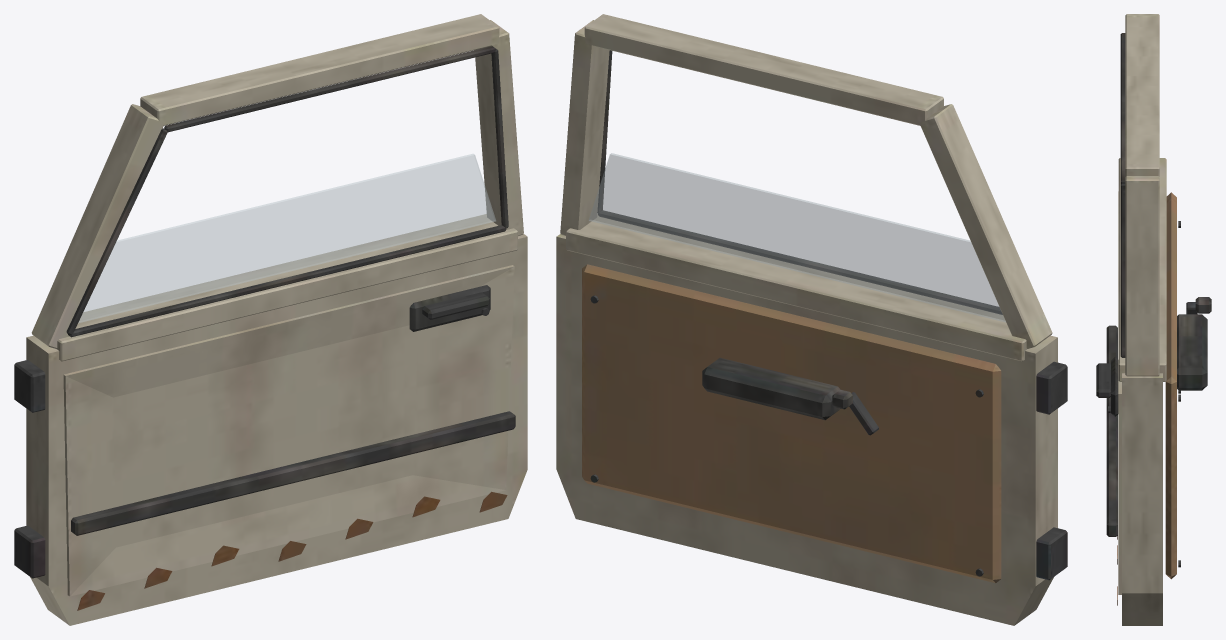
Rendered from JV13_detached_car_doors_v2.glb.
The picture shows the model from 3 angles, left to right: view 1: azimuth 30°, elevation 25°; view 2: azimuth 150°, elevation 25°; view 3: azimuth 270°, elevation 25°; orthographic projection. The views are drawn at different scales.
Visible parts, largest first — view 1: Folded door shell; view 2: Folded door shell; view 3: Folded door shell.
Part boxes in pixels (left/top/right/bottom): Folded door shell: left=14, top=14, right=527, bottom=625; Folded door shell: left=556, top=14, right=1067, bottom=625; Folded door shell: left=1096, top=14, right=1211, bottom=625.
Size of the model in its own units: 1.2 by 1.15 by 0.2635.
Materials: 6 (5 with a texture image).
